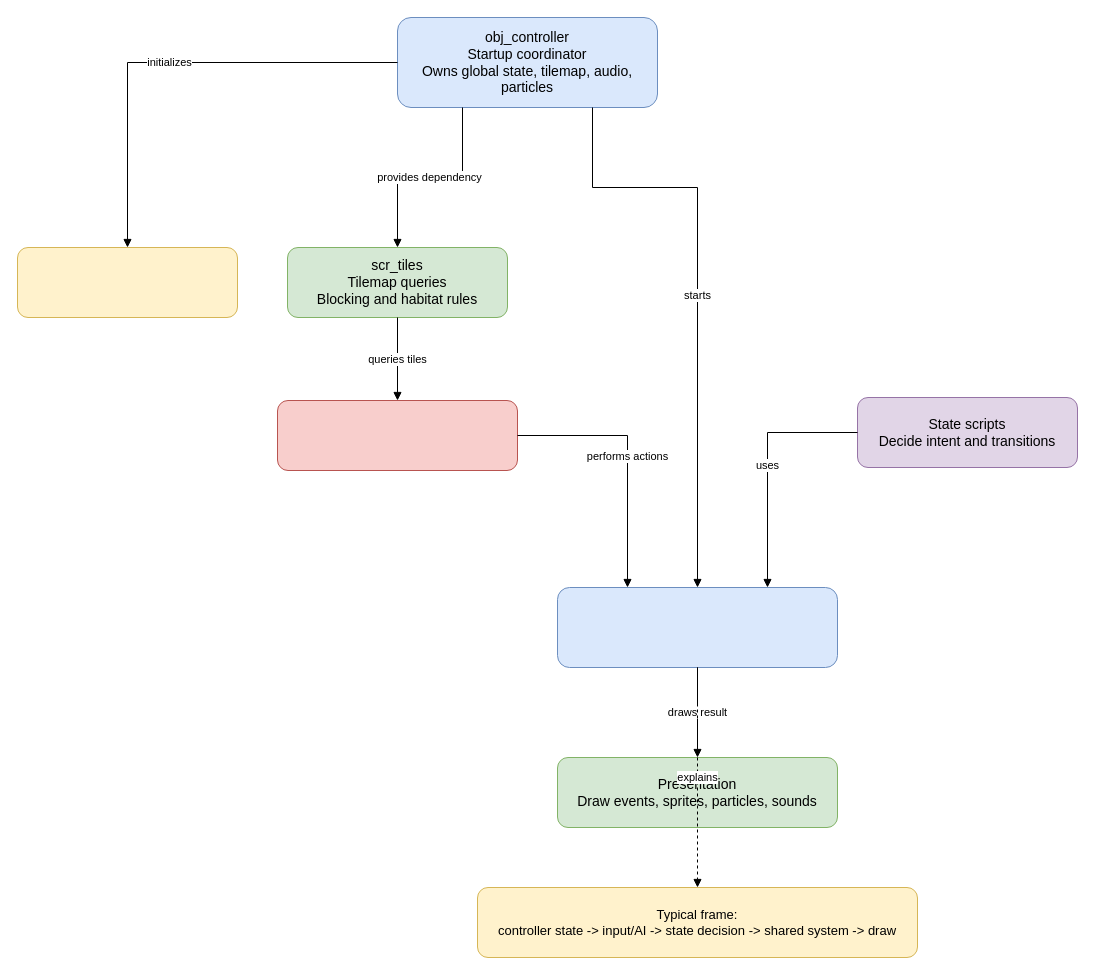
Image size: 1095x975. Some labels were removed from this diagram. The shapes that lost their labels are listed below. From the top down, each one's centre as x and y in pixels, then its label:
the point at 127,282: scr_globals Enums and global defaults
the point at 397,435: Shared gameplay systems Movement, damage, animals, items, weapons
the point at 697,627: Gameplay objects Player, animals, enemies, items, projectiles
